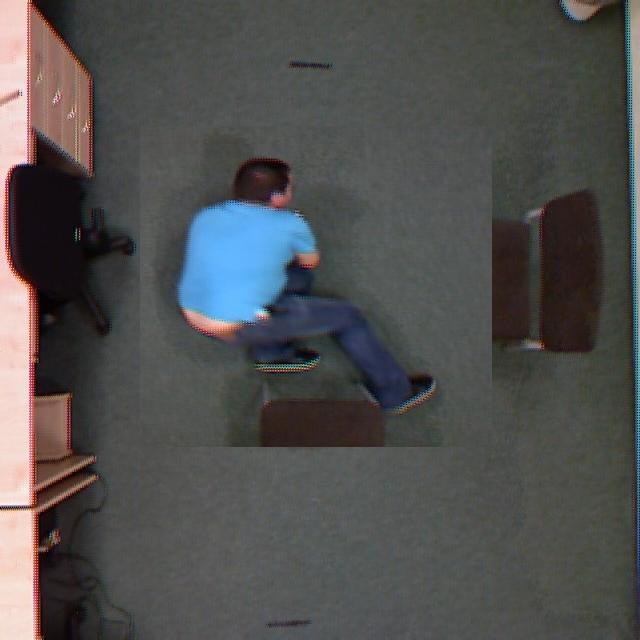Fall: (65, 134, 485, 444)
